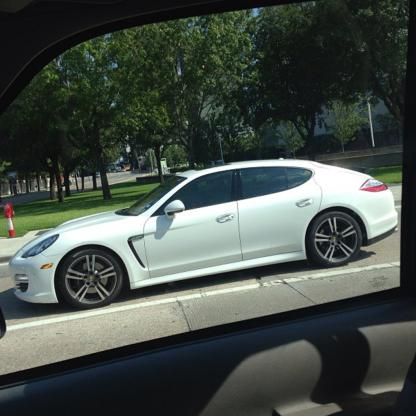Car: (8, 157, 398, 310)
